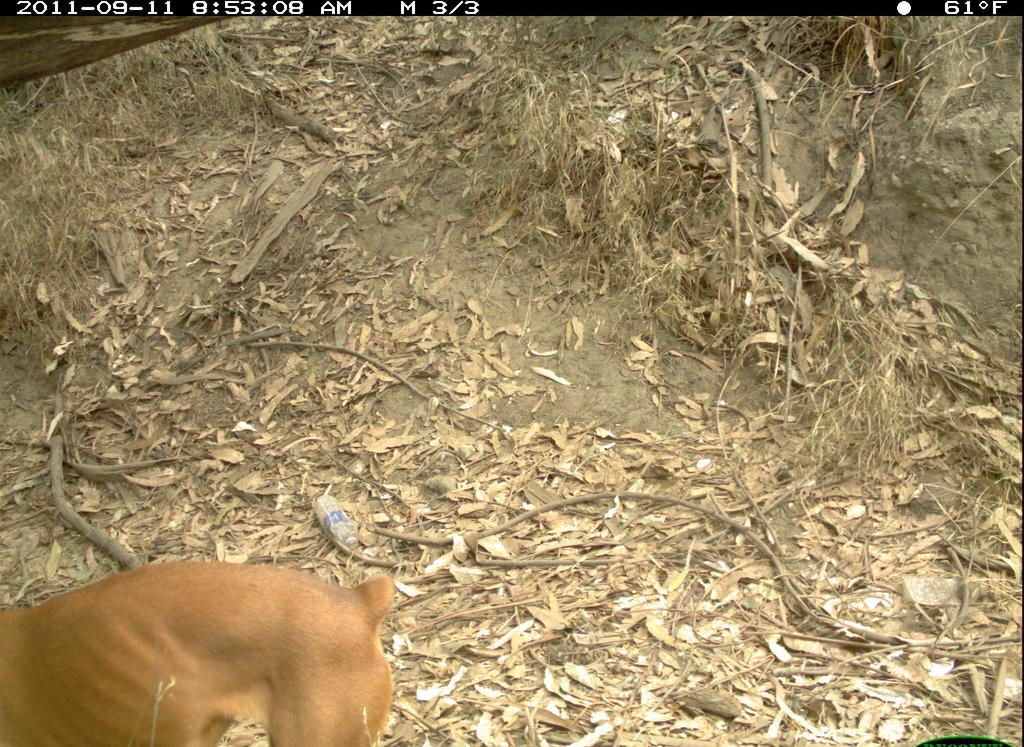dog: (1, 541, 414, 747)
